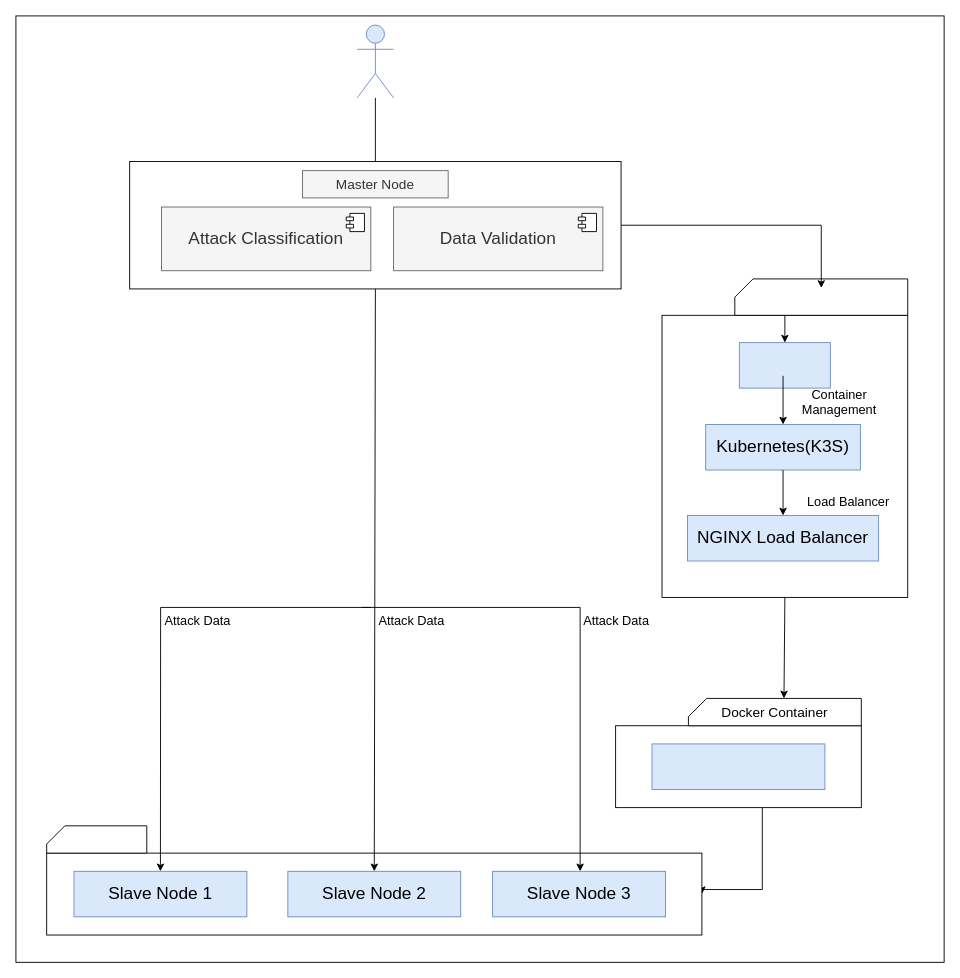
Some shapes in this 960 by 978 pixel diagram are drawn without their labels. Each missing label, with the centre of its shape:
"Framework Layer" goes at point 821,296.
"IOT Traffic data" goes at point 375,61.
"Model Container" goes at point 738,766.
"Rancher" goes at point 784,365.
"Slave Nodes" goes at point 96,839.
